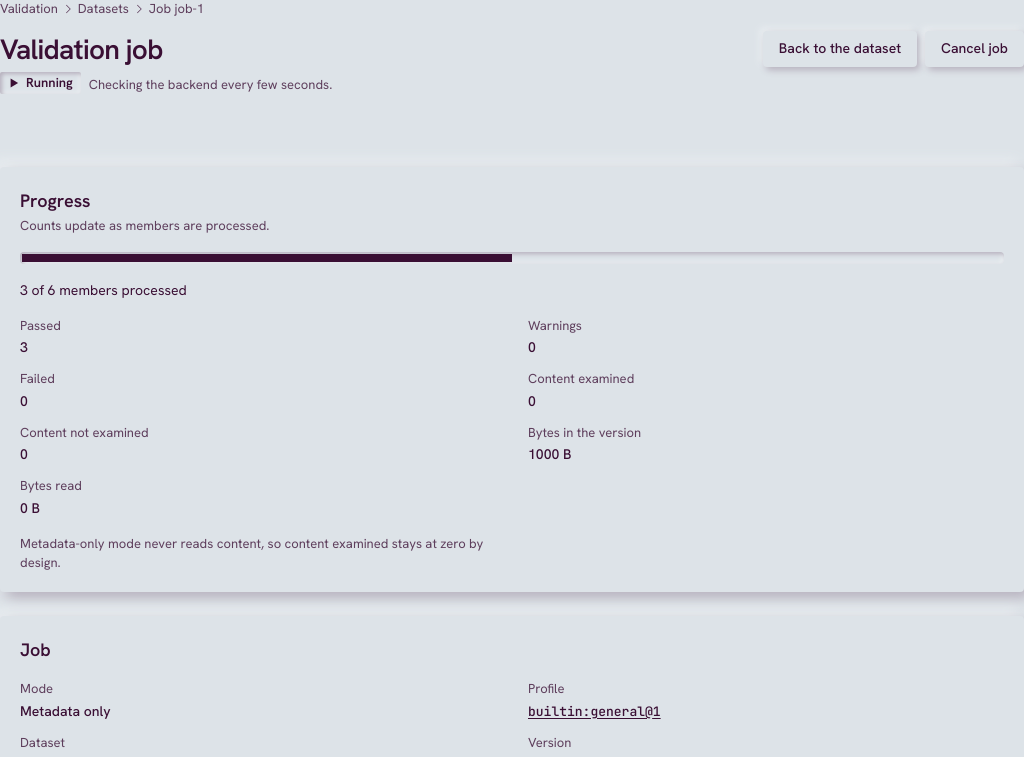
JobScreen › cancels a live job after confirmation and shows that it is stopping
Click the button "Cancel job". click: (975, 49)
box: [925,31,1023,67]
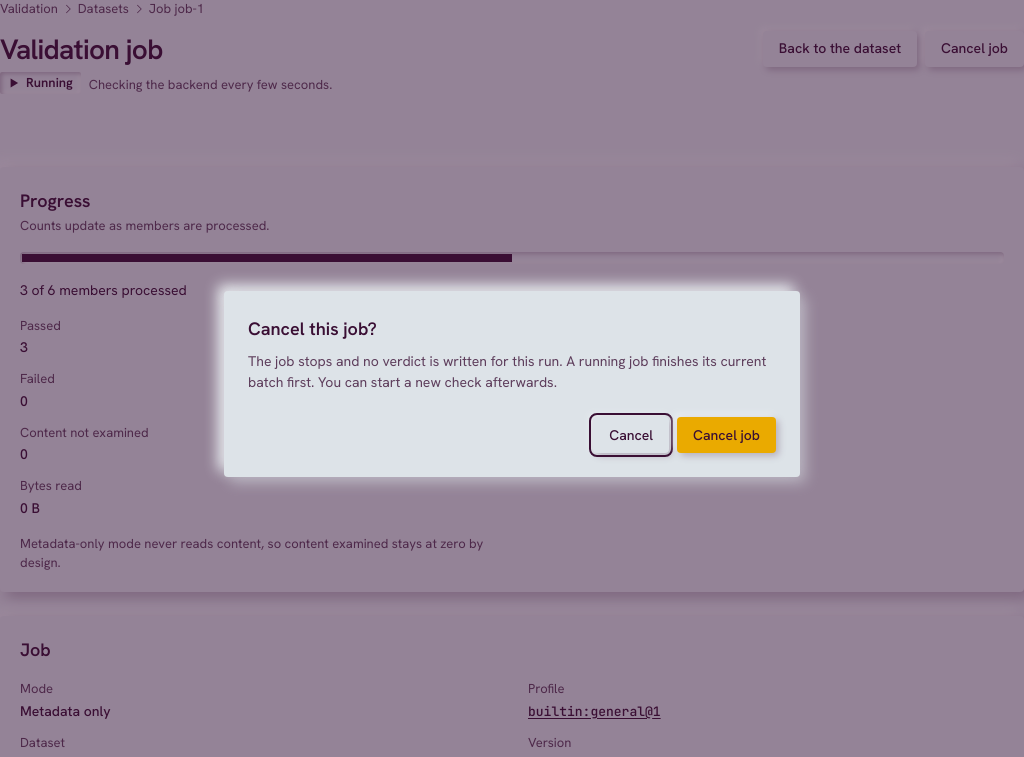
Click the button "Cancel job". click: (727, 435)
box: [677,417,776,453]
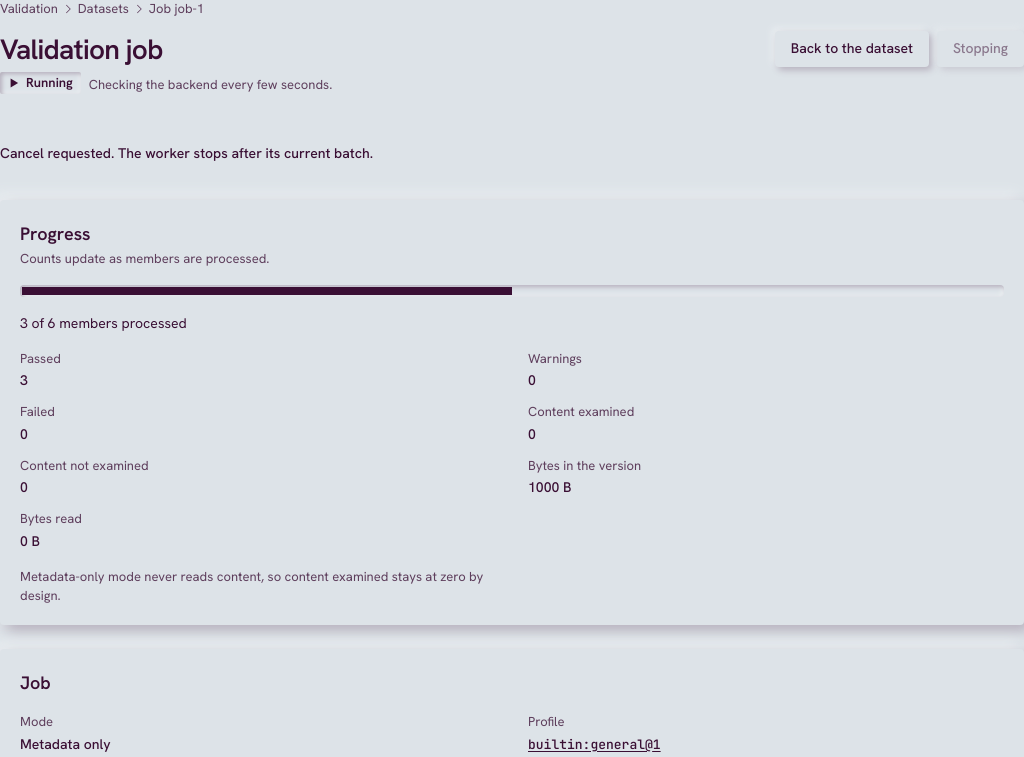
Check: the text "Cancel requested. The worker stops after its current batch." is shown, box [0,144,373,162]
